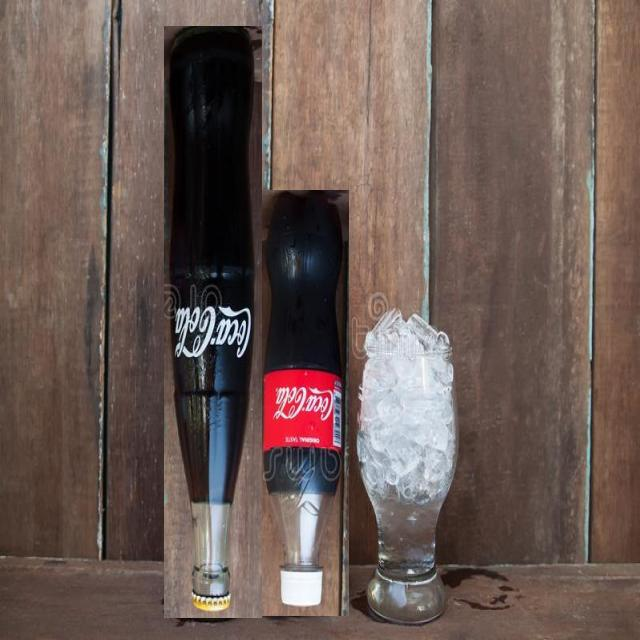coca-cola: (164, 26, 262, 618), (262, 190, 349, 616)
